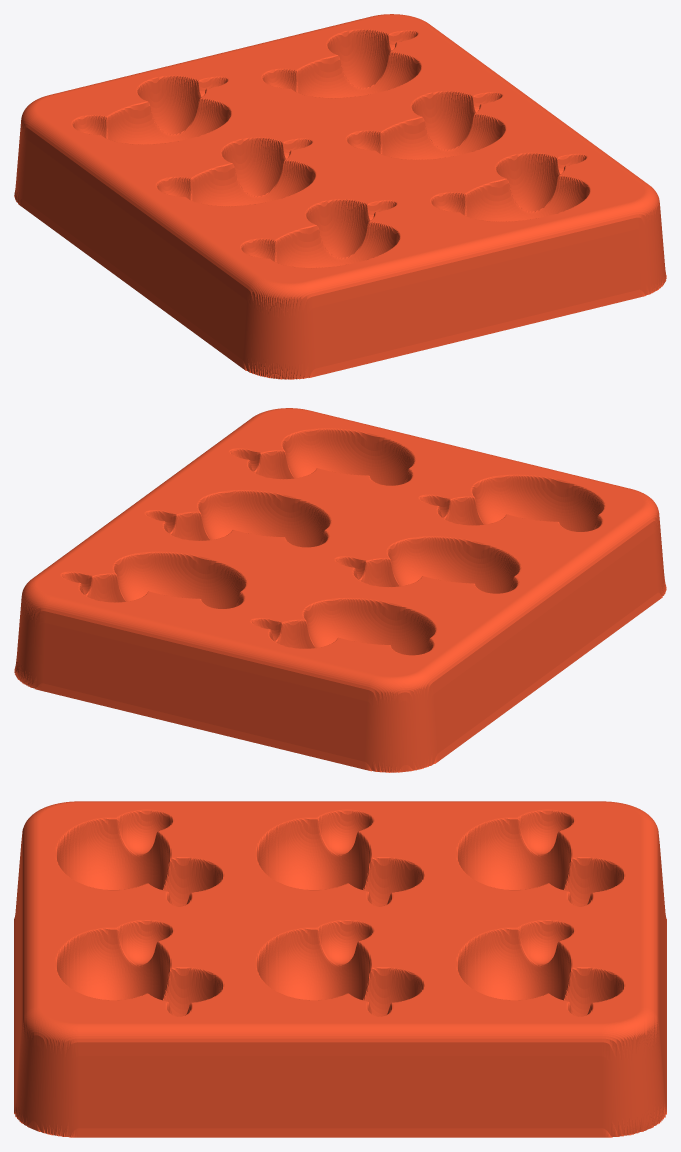
Rendered from mold.glb.
3 renders of one model, top to bottom at view 1: azimuth 30°, elevation 25°; view 2: azimuth 150°, elevation 25°; view 3: azimuth 270°, elevation 25°, orthographic. The views are drawn at different scales.
Visible parts, largest first — view 1: geometry_0; view 2: geometry_0; view 3: geometry_0.
Boxes of the visible parts, x1,y1,x2,y2 form: geometry_0: (14,14,666,379); geometry_0: (14,408,666,772); geometry_0: (14,801,666,1137).
Size of the model in its own units: 0.08 by 0.0159 by 0.0912.
